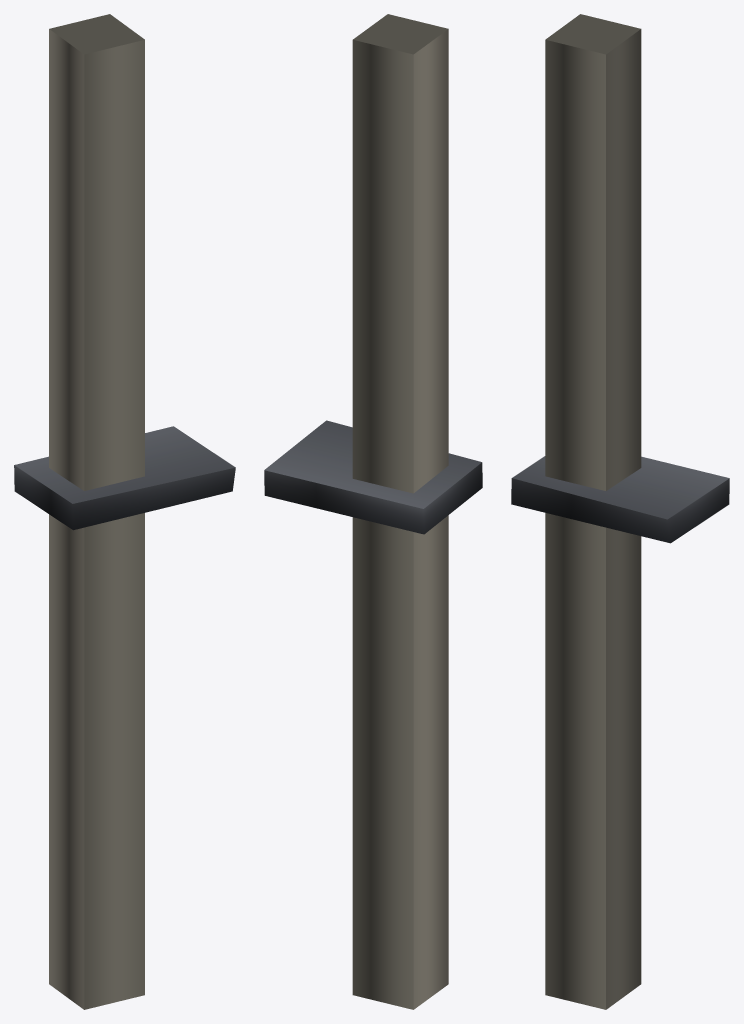
The model's file is TSP_Rain_Spout_01B.fbx.
3 views of the same model, side by side, from view 1: azimuth 30°, elevation 25°; view 2: azimuth 150°, elevation 25°; view 3: azimuth 330°, elevation 25° (orthographic).
Visible parts, largest first — view 1: TSP_Rain_Spout_01B; view 2: TSP_Rain_Spout_01B; view 3: TSP_Rain_Spout_01B.
Part boxes in pixels (x1,y1,x2,y2): TSP_Rain_Spout_01B: (14,14,235,1009); TSP_Rain_Spout_01B: (264,14,482,1009); TSP_Rain_Spout_01B: (511,14,729,1009).
Bounding box in the file's own units: 0.5242 × 3 × 0.3544.
